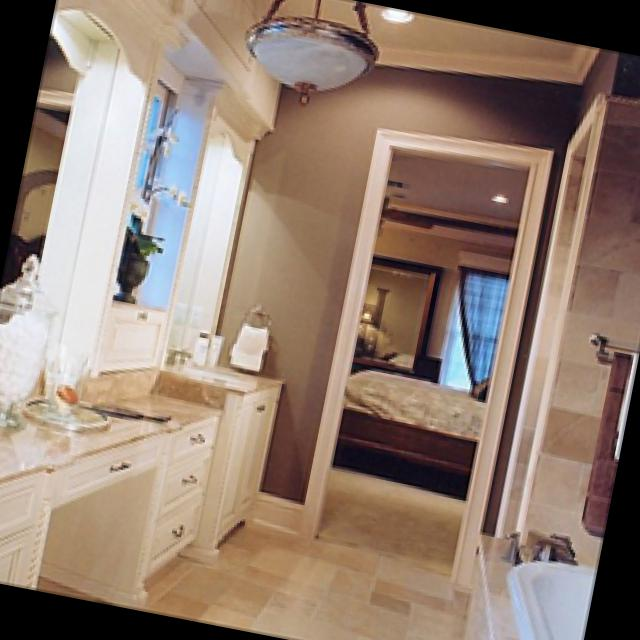2001: (108, 79, 183, 301), (440, 258, 508, 398)
bath occluded: (501, 526, 580, 565)
bathtub: (507, 555, 591, 640)
bed -occluded-: (335, 364, 483, 468)
bottle crop: (183, 327, 209, 361)
bouquet: (111, 101, 186, 302)
cabinet door: (0, 415, 218, 602), (194, 383, 277, 563)
ceiling lamps: (240, 0, 379, 106), (380, 7, 410, 22), (490, 191, 508, 198)
counter bottom: (0, 351, 279, 473)
curtain crop: (455, 267, 502, 392)
door handle: (299, 127, 548, 587), (493, 94, 598, 540)
floor -X: (140, 462, 471, 640)
jar -X: (0, 256, 58, 430)
mirror crop: (3, 8, 121, 309), (2, 35, 80, 304)
sink basin: (160, 359, 270, 390)
soap bottle: (56, 380, 74, 407)
towel basket: (579, 349, 635, 535), (223, 322, 268, 366)
towel ring: (237, 295, 269, 321), (587, 326, 608, 361)
tube: (207, 332, 221, 364)
